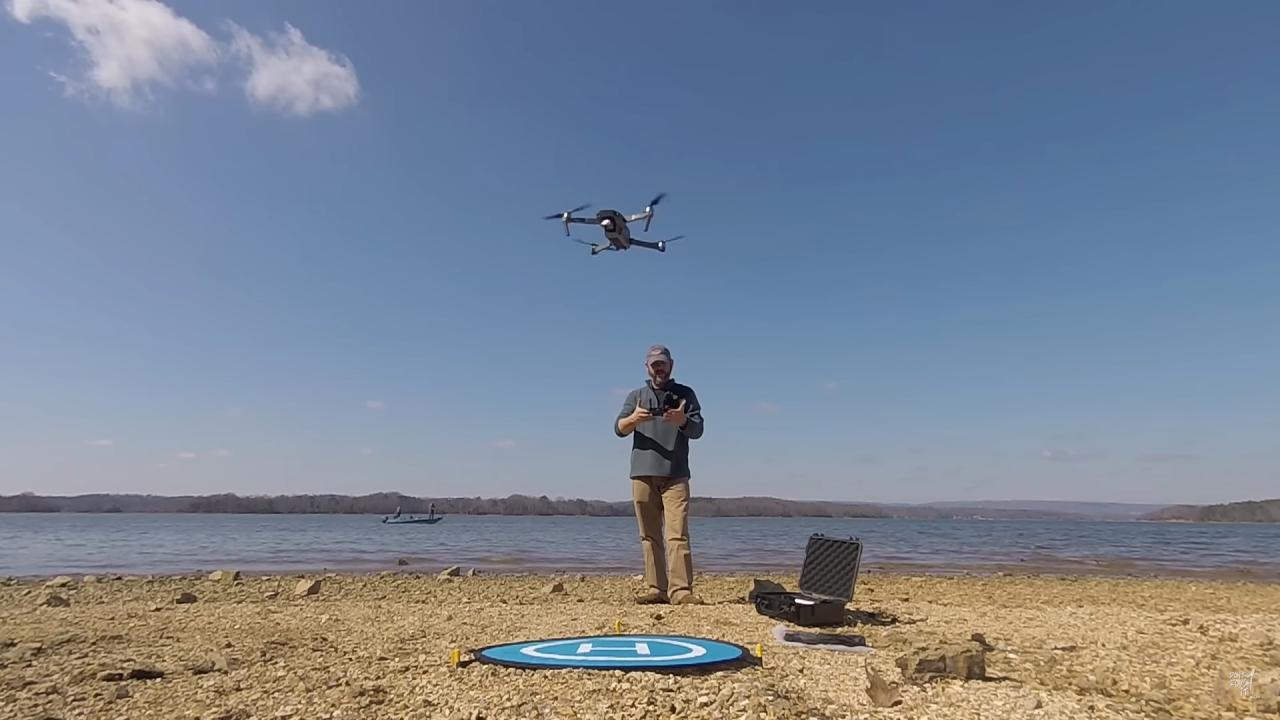Drone: (534, 180, 702, 273)
